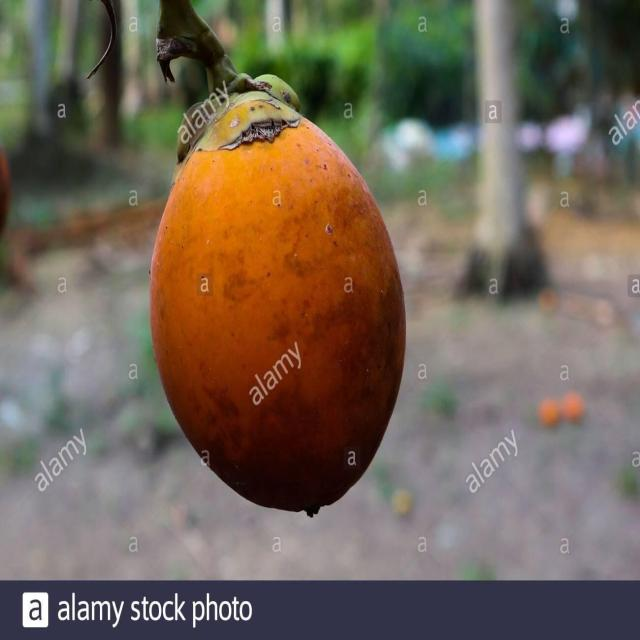good: (148, 78, 408, 518)
